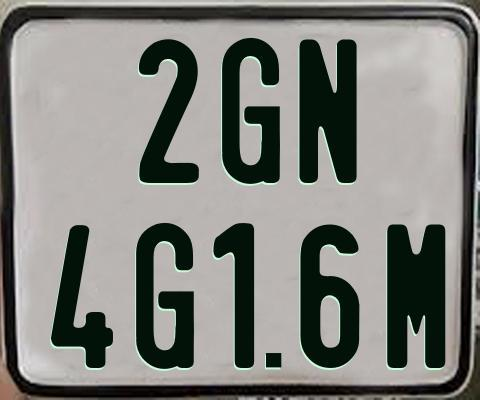1: (213, 221, 257, 370)
2: (137, 37, 200, 181)
4: (50, 223, 118, 366)
6: (300, 221, 365, 370)
G: (220, 36, 284, 184), (134, 223, 192, 370)
M: (387, 221, 447, 371)
N: (296, 38, 355, 188)
